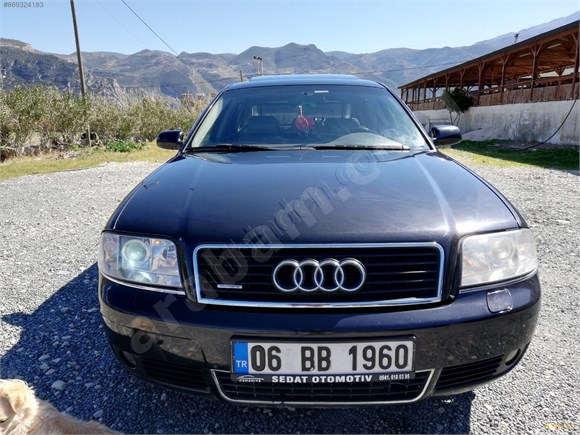audi: (265, 246, 372, 303)
